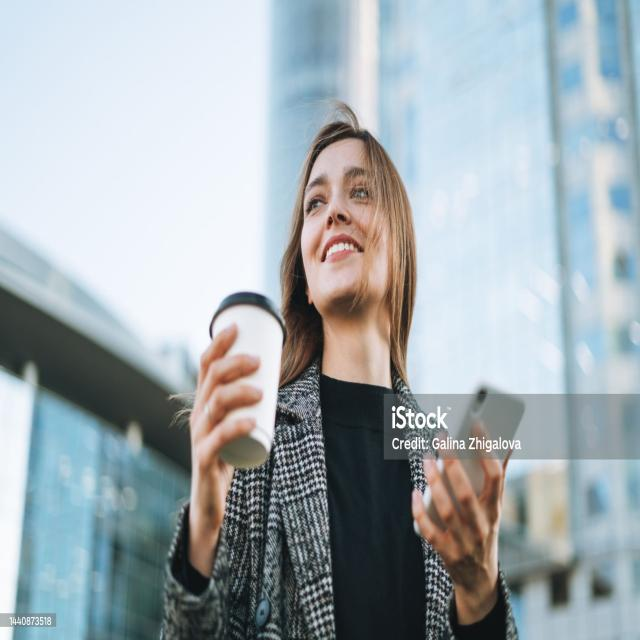cup: (209, 293, 285, 469)
